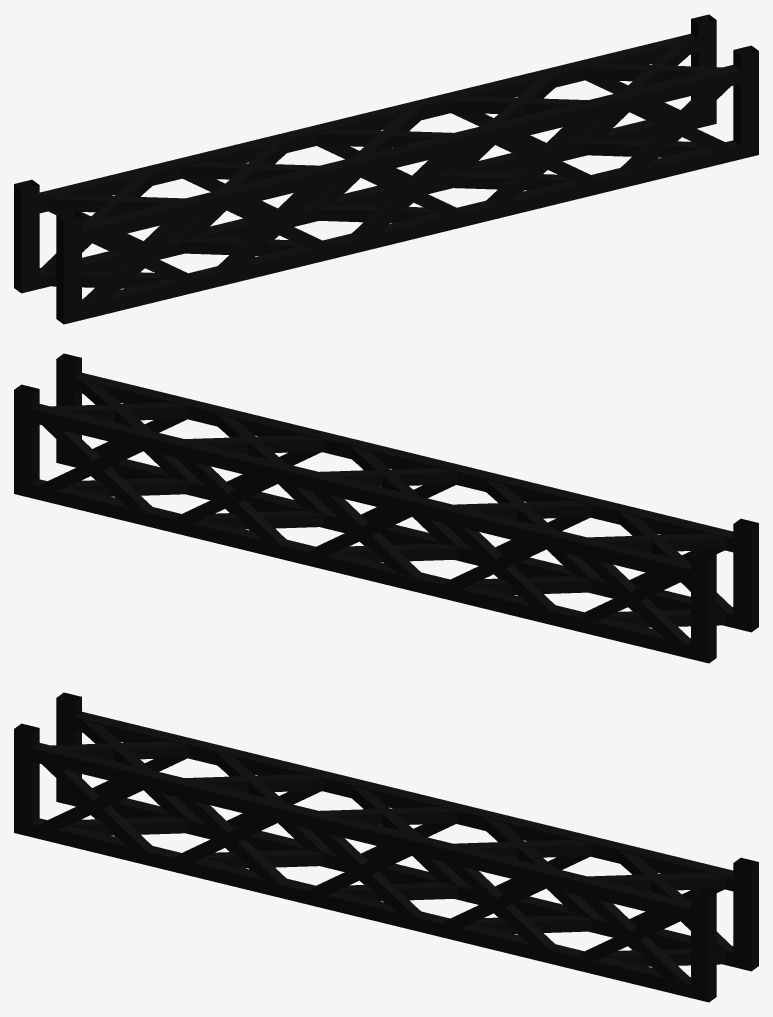
Rendered from Int_GrateBars01.fbx.
3 renders of one model, top to bottom at view 1: azimuth 30°, elevation 25°; view 2: azimuth 150°, elevation 25°; view 3: azimuth 330°, elevation 25°, orthographic.
Visible parts, largest first — view 1: Int_GrateBars01; view 2: Int_GrateBars01; view 3: Int_GrateBars01.
Boxes of the visible parts, x1,y1,x2,y2 form: Int_GrateBars01: (14, 14, 758, 324); Int_GrateBars01: (14, 353, 758, 663); Int_GrateBars01: (14, 692, 758, 1002).
Size of what is drawn, in the model's own units: 700 by 87 by 100.
